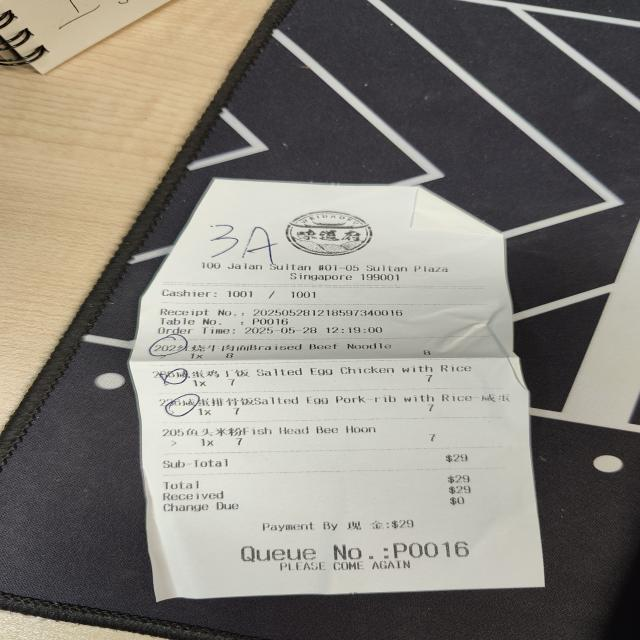bill_region: (143, 341, 512, 516)
